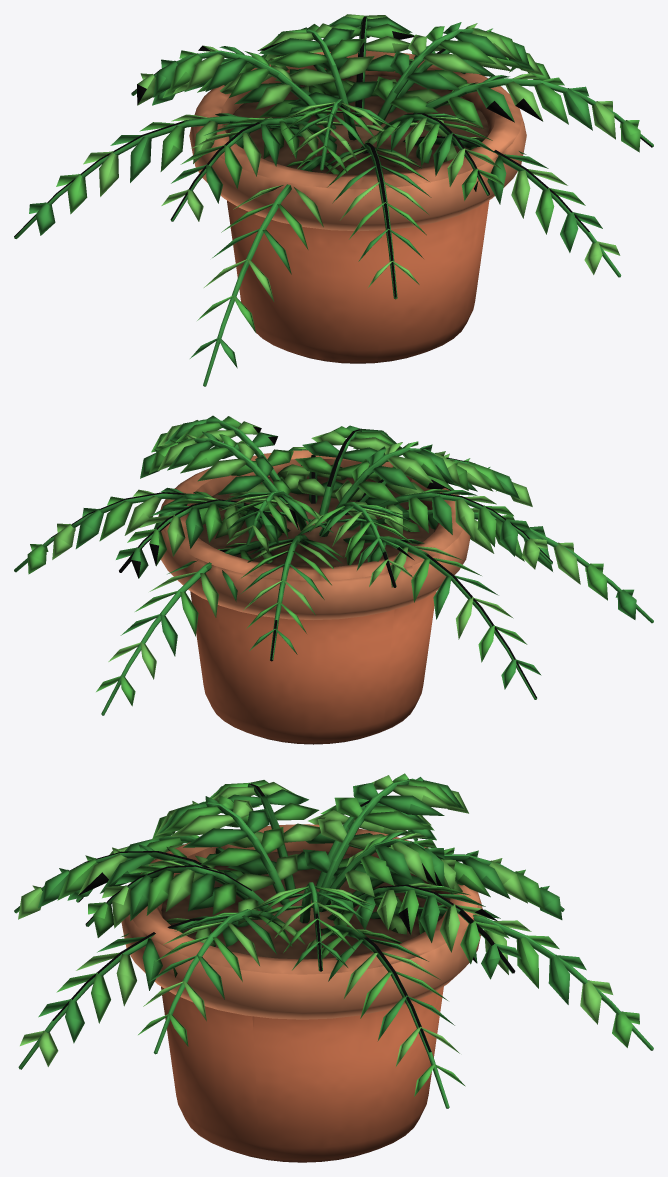
File: plant_fern.glb
3 views of the same model, one above another, from view 1: azimuth 30°, elevation 25°; view 2: azimuth 150°, elevation 25°; view 3: azimuth 270°, elevation 25° (orthographic). The views are drawn at different scales.
Visible parts, largest first — view 1: plant_fern; view 2: plant_fern; view 3: plant_fern.
Part boxes in pixels (<box>): plant_fern: <box>14,14,653,386</box>; plant_fern: <box>14,415,653,744</box>; plant_fern: <box>14,773,653,1162</box>.
Bounding box in the file's own units: 0.9104 × 0.4232 × 0.8618.
Materials: 7 (7 with a texture image).
